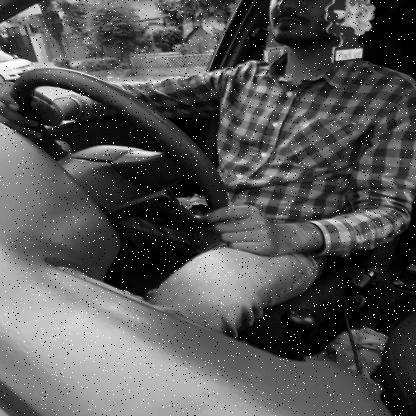no_seatbelt: (226, 0, 373, 192)
